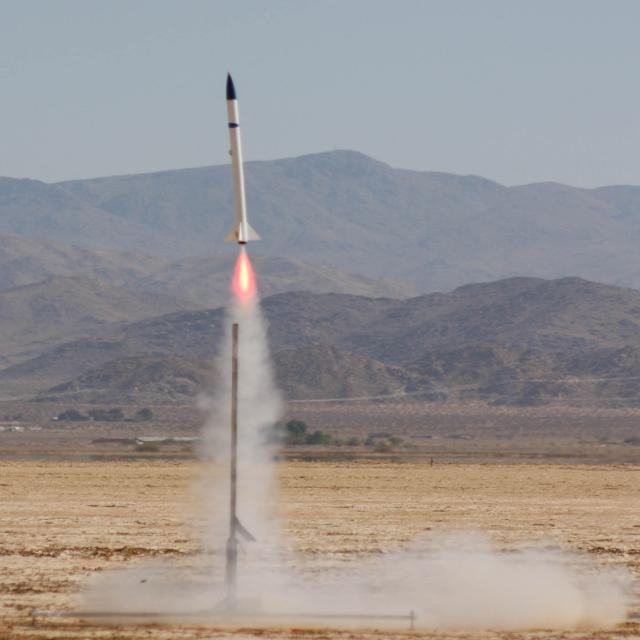Rocket: (224, 72, 263, 245)
